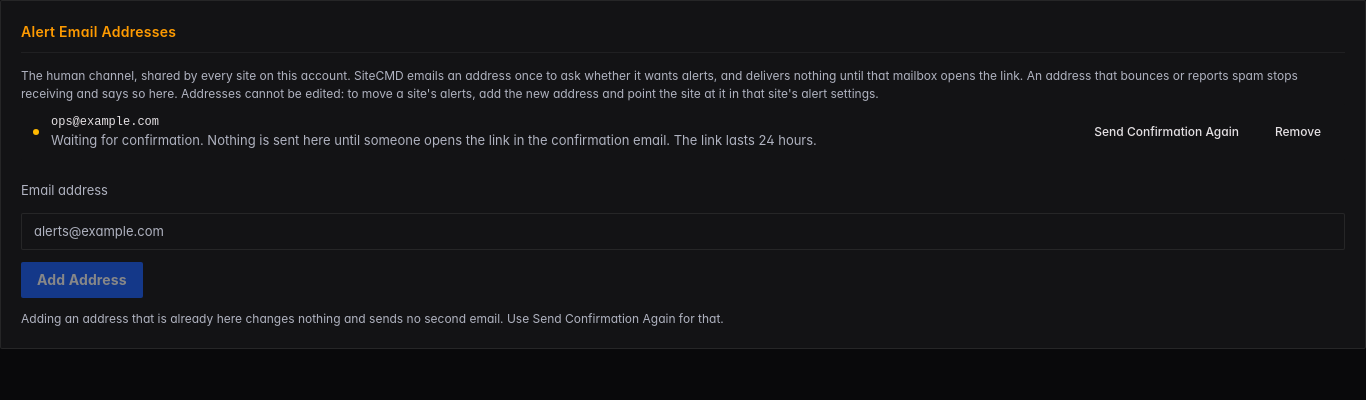
Scenario: ConnectedAlertDestinationsSection › resends the confirmation, and shows the rate limit as a wait rather than a failure
This screenshot has width=1366, height=400.
Click the button "Send Confirmation Again" at (1167, 132), box left=1082, top=116, right=1251, bottom=148
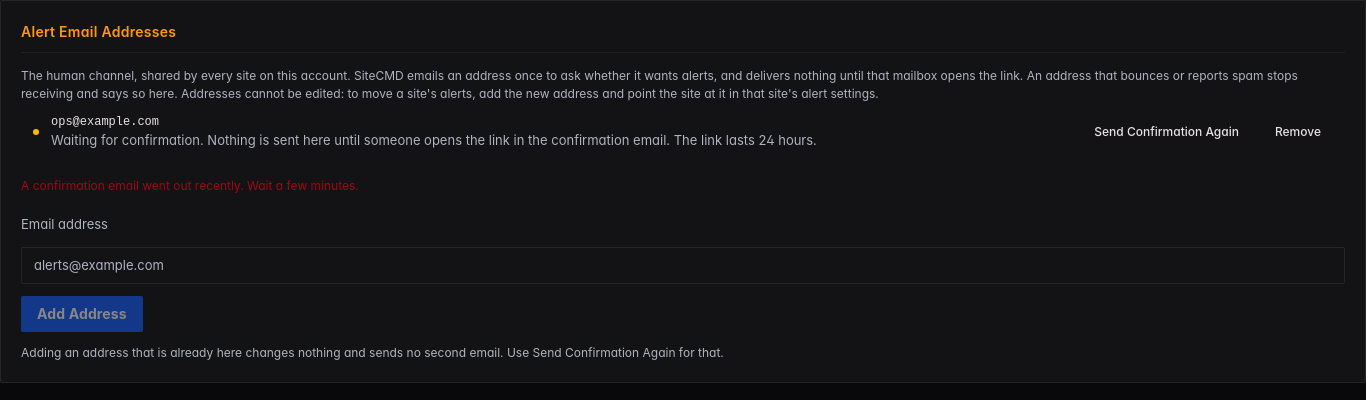
Check: the text "A confirmation email went out recently. Wait a few minutes." is shown, box left=21, top=178, right=359, bottom=192
